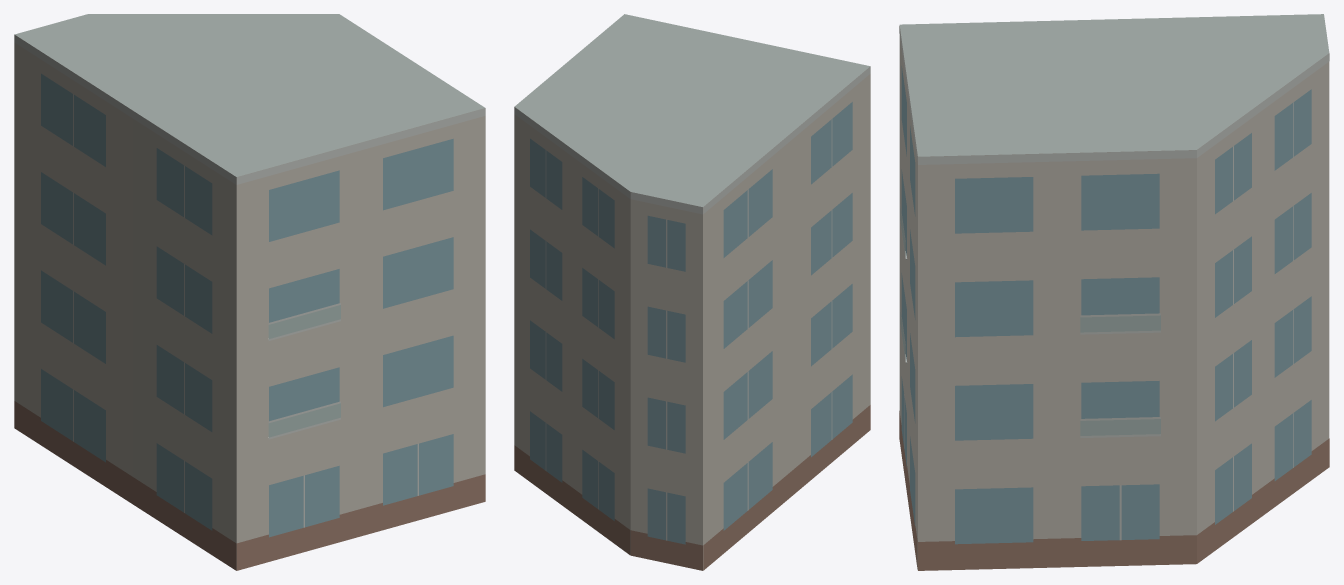
File: residential-e31dc46a-9096-4f3f-b992-d7d060140f07.glb
3 views of the same model, side by side, from view 1: azimuth 30°, elevation 25°; view 2: azimuth 150°, elevation 25°; view 3: azimuth 270°, elevation 25° (orthographic). The views are drawn at different scales.
Parts seen in each view (by area): view 1: residential-e31dc46a-9096-4f3f-b992-d7d060140f07.tmp; view 2: residential-e31dc46a-9096-4f3f-b992-d7d060140f07.tmp; view 3: residential-e31dc46a-9096-4f3f-b992-d7d060140f07.tmp.
Part boxes in pixels (x1,y1,x2,y2): residential-e31dc46a-9096-4f3f-b992-d7d060140f07.tmp: (14,14,485,570); residential-e31dc46a-9096-4f3f-b992-d7d060140f07.tmp: (514,14,870,570); residential-e31dc46a-9096-4f3f-b992-d7d060140f07.tmp: (899,14,1329,570).
Bounding box in the file's own units: 9.03 × 12.2 × 11.49.
